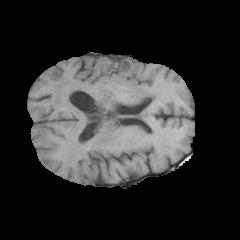glioma: (55, 60, 162, 117)
